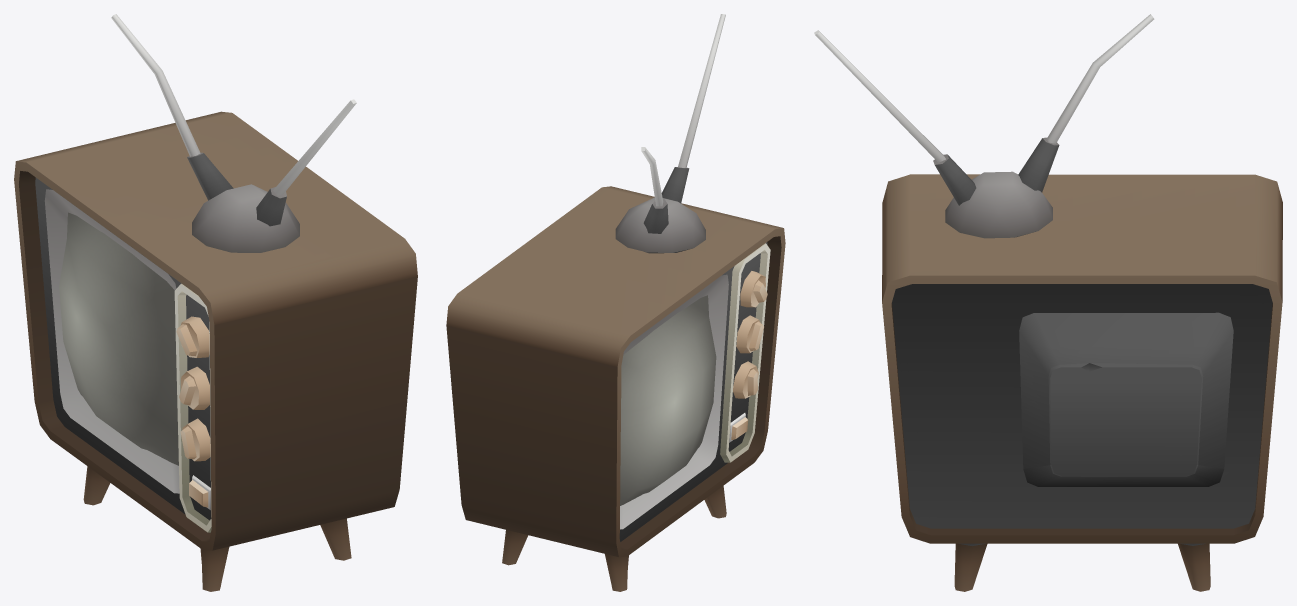
File: television_set_1d3e592e.glb
3 views of the same model, side by side, from view 1: azimuth 30°, elevation 25°; view 2: azimuth 150°, elevation 25°; view 3: azimuth 270°, elevation 25° (orthographic). The views are drawn at different scales.
Visible parts, largest first — view 1: TV_toon_tv_0; view 2: TV_toon_tv_0; view 3: TV_toon_tv_0.
Part boxes in pixels (x1=…): TV_toon_tv_0: x1=14, y1=14, x2=417, y2=591; TV_toon_tv_0: x1=446, y1=14, x2=785, y2=591; TV_toon_tv_0: x1=814, y1=14, x2=1282, y2=591.
Bounding box in the file's own units: 28.91 × 61.48 × 49.66.
Materials: 1 (1 with a texture image).
